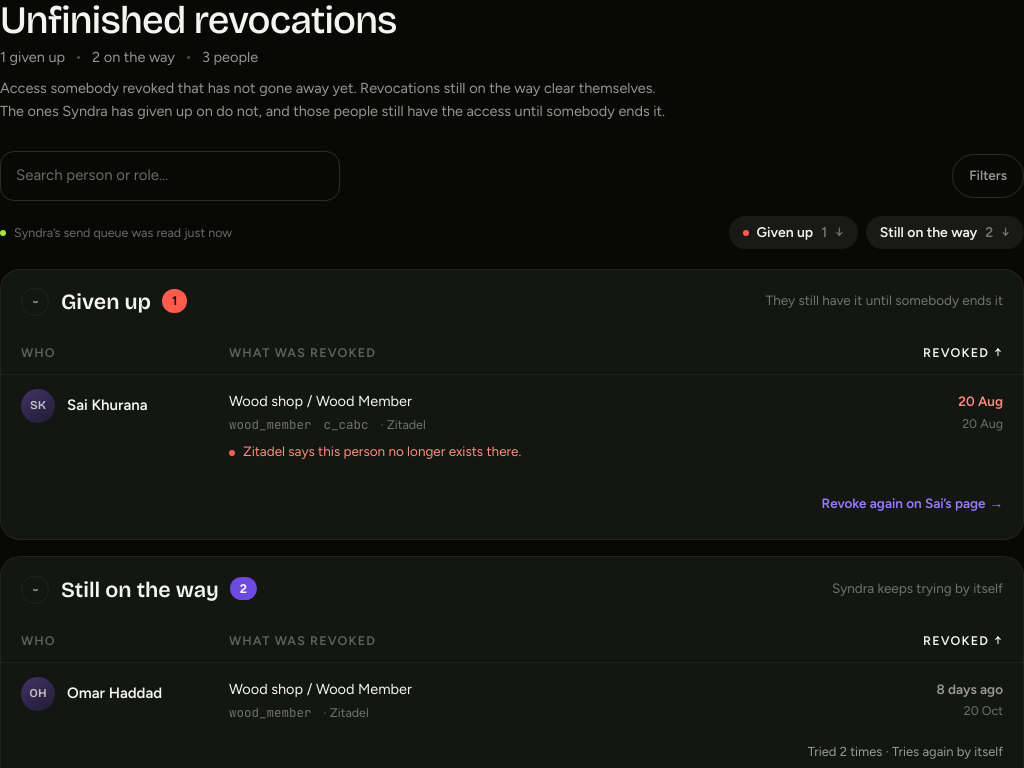
Test: the board's anatomy › search narrows the rows and a section with none says so, not 'nothing given up'
Expected: the text "3 people" is shown, [187,46,258,69]
Type "omar" into the field named "Search unfinished revocations" at (170, 176), box [0,151,340,201]
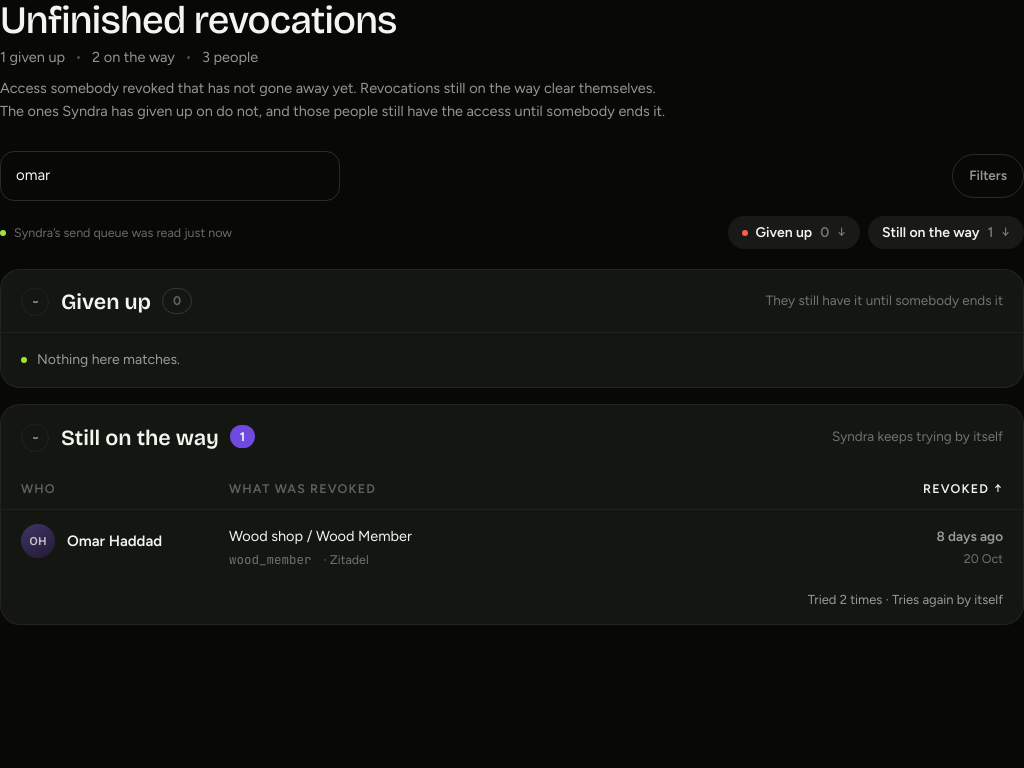
Expected: the text "Omar Haddad" is shown, [67,532,162,550]
Expected: the link "Sai Khurana" is gone
Expected: the text "Nothing here matches." is shown, [1,332,1023,387]
